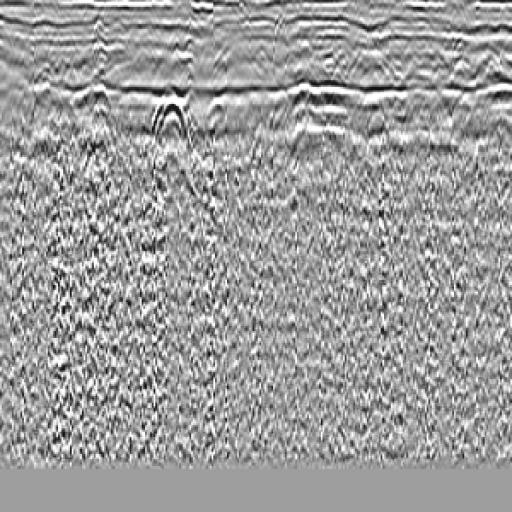metalic: (131, 52, 230, 278)
